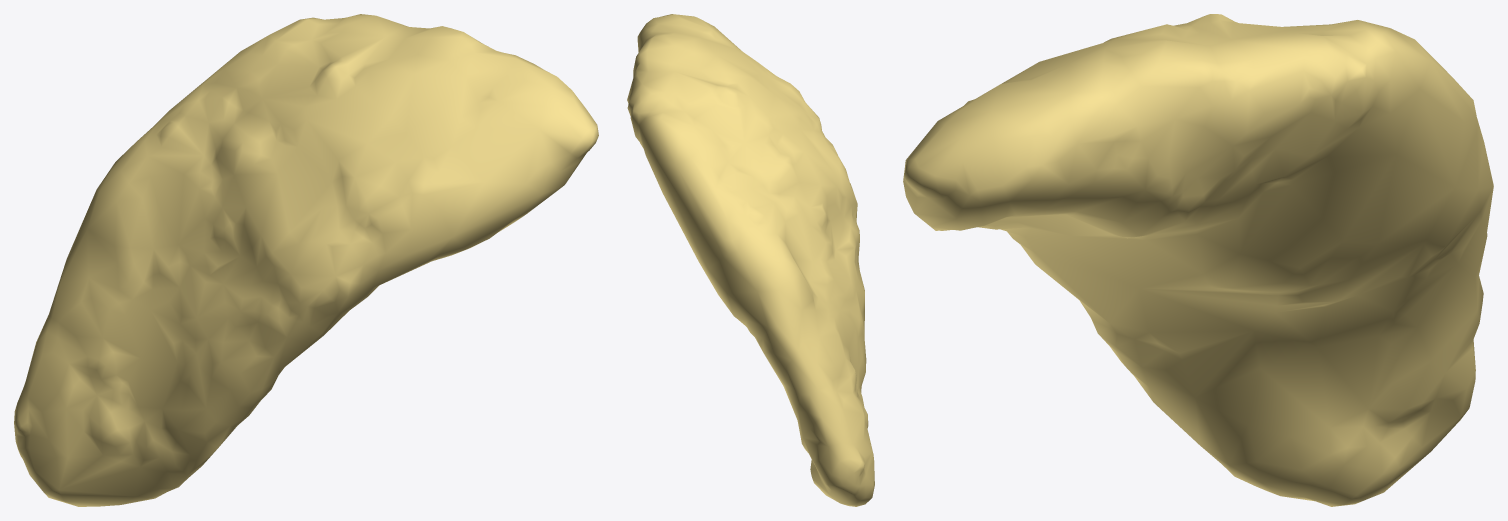
3 views of the same model, side by side, from view 1: azimuth 30°, elevation 25°; view 2: azimuth 150°, elevation 25°; view 3: azimuth 270°, elevation 25° (orthographic). The views are drawn at different scales.
Parts seen in each view (by area): view 1: ZA_33f4e8ae5c8f0a07; view 2: ZA_33f4e8ae5c8f0a07; view 3: ZA_33f4e8ae5c8f0a07.
Part boxes in pixels (box(x1,y1,x2,y2)): ZA_33f4e8ae5c8f0a07: box(14, 14, 598, 506); ZA_33f4e8ae5c8f0a07: box(627, 14, 874, 506); ZA_33f4e8ae5c8f0a07: box(903, 14, 1493, 506).
Size of the model in its own units: 0.018 by 0.0184 by 0.0151.
